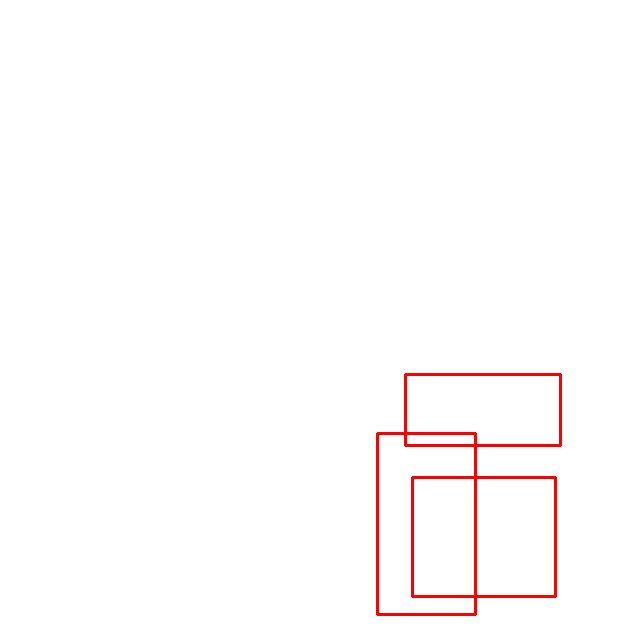weapon: (378, 433, 476, 615), (413, 478, 556, 597), (405, 374, 560, 446)
